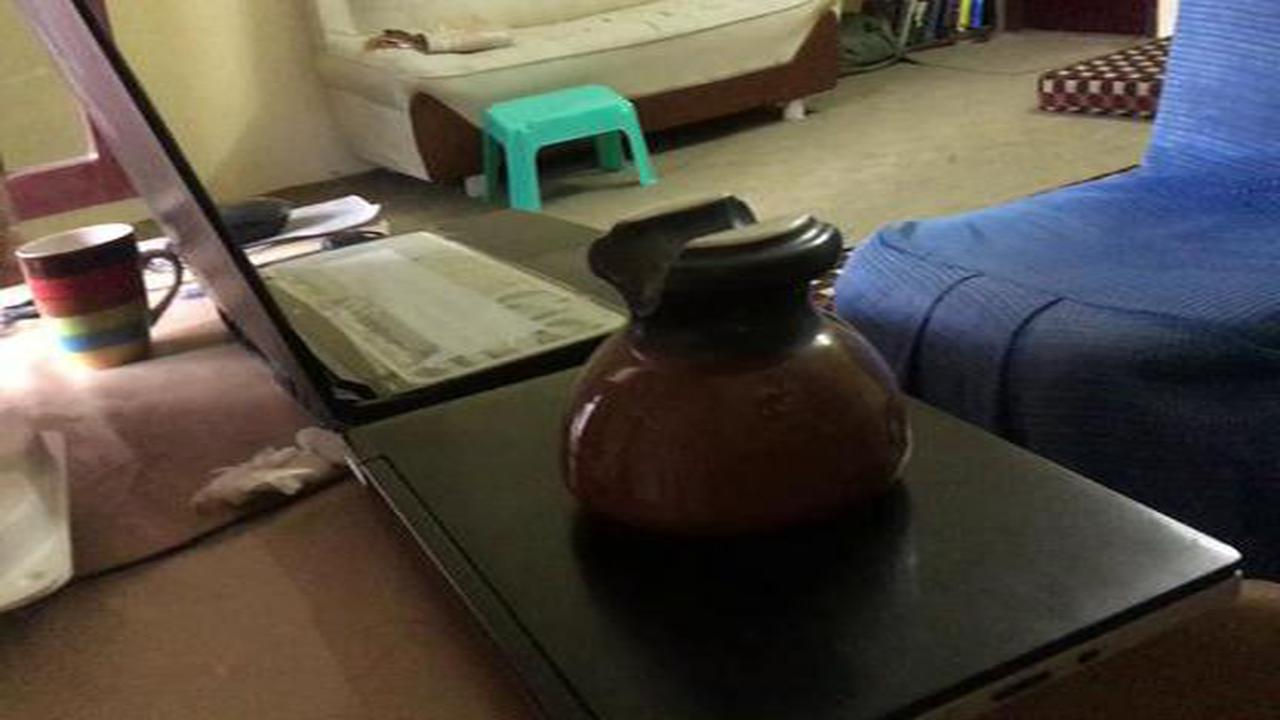insulator_pin: (524, 186, 945, 565)
